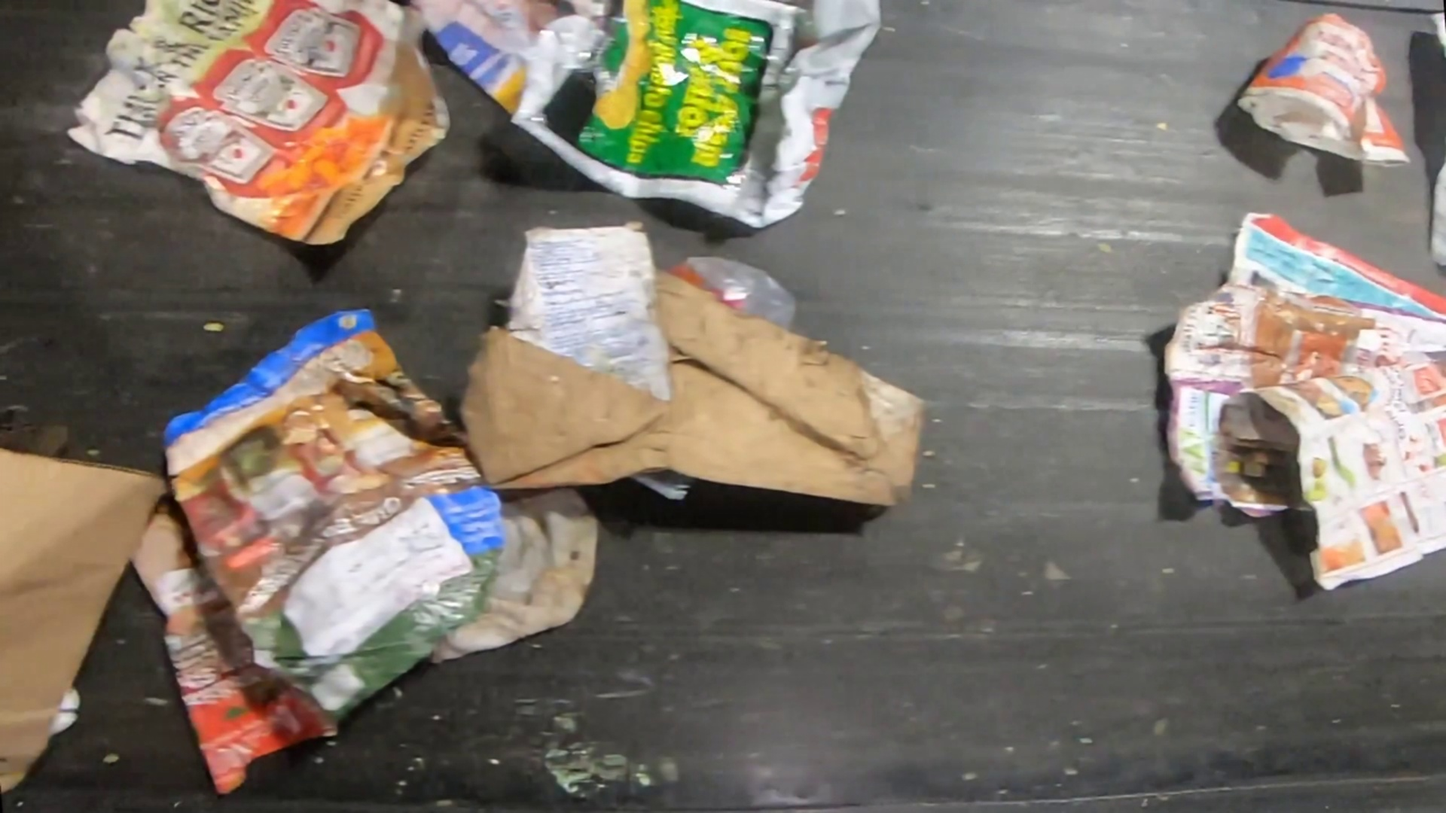cardboard: (462, 226, 931, 509), (0, 447, 173, 798)
plastic: (509, 2, 884, 231), (1235, 13, 1412, 168), (670, 254, 804, 331), (634, 466, 688, 502)
